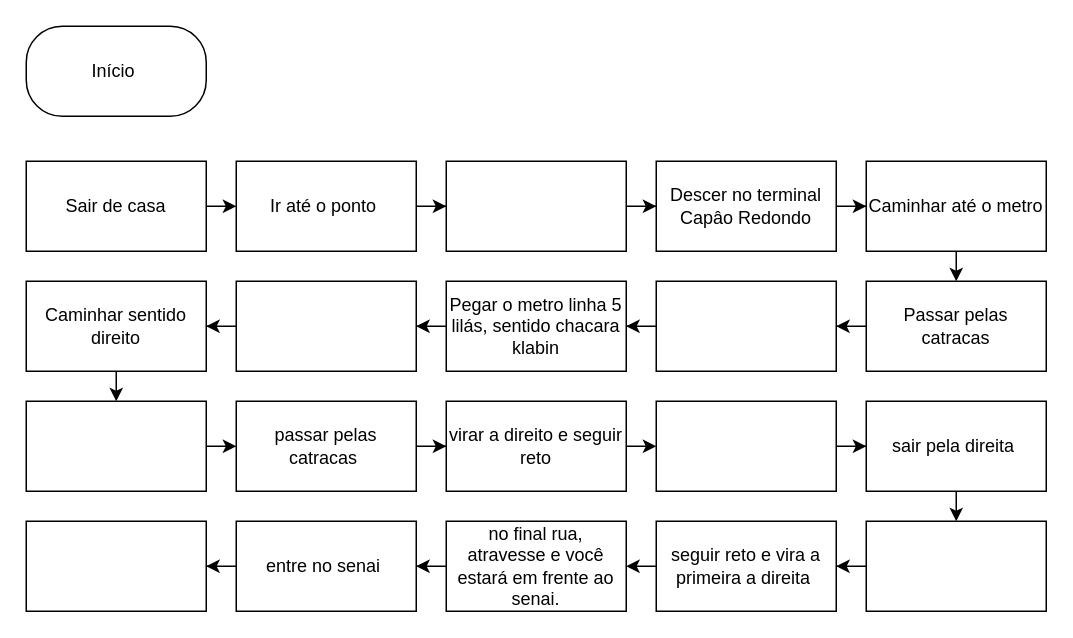
Image size: 1073x638. Some labels were removed from this diagram. The box of each missing label's shape, as (x1, y1, x2, y2) in pixels:
caminhar pela passagem embaixo da escada do terminal santo amaro: (865, 520, 1046, 611)
Descer na estação Largo Treze: (235, 280, 416, 371)
fim: (25, 520, 206, 611)
Pegar qualquer onibus que vai para o capâo: (445, 160, 626, 251)
subir as escadas: (25, 400, 206, 491)
Subir as escadas rolante: (655, 280, 836, 371)
virar a direita e subir as escadas: (655, 400, 836, 491)
